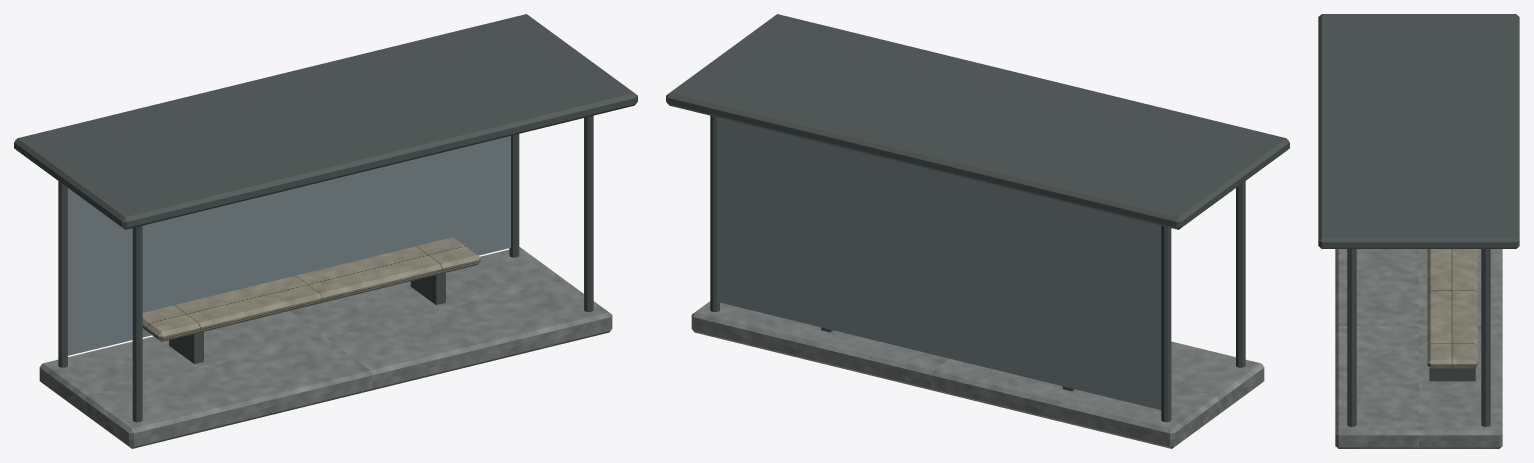
Rendered from street-props.glb.
The picture shows the model from 3 angles, left to right: view 1: azimuth 30°, elevation 25°; view 2: azimuth 150°, elevation 25°; view 3: azimuth 270°, elevation 25°; orthographic projection. The views are drawn at different scales.
Parts seen in each view (by area): view 1: street-props / Ironwork, street-props / Aged concrete, street-props / Glass 2, street-props / Weathered limestone; view 2: street-props / Glass 2, street-props / Ironwork, street-props / Aged concrete; view 3: street-props / Ironwork, street-props / Aged concrete, street-props / Weathered limestone.
Boxes of the visible parts, box(x1,y1,x2,y2) form: street-props / Ironwork: box(14, 14, 637, 422); street-props / Aged concrete: box(39, 247, 612, 448); street-props / Glass 2: box(68, 136, 510, 355); street-props / Weathered limestone: box(142, 237, 480, 341); street-props / Glass 2: box(718, 117, 1161, 409); street-props / Ironwork: box(666, 14, 1289, 422); street-props / Aged concrete: box(691, 301, 1264, 448); street-props / Ironwork: box(1318, 14, 1519, 426); street-props / Aged concrete: box(1335, 249, 1502, 448); street-props / Weathered limestone: box(1427, 249, 1477, 368).
Size of the model in its own units: 6.4 by 2.88 by 2.4.
Materials: 4 (2 with a texture image).
